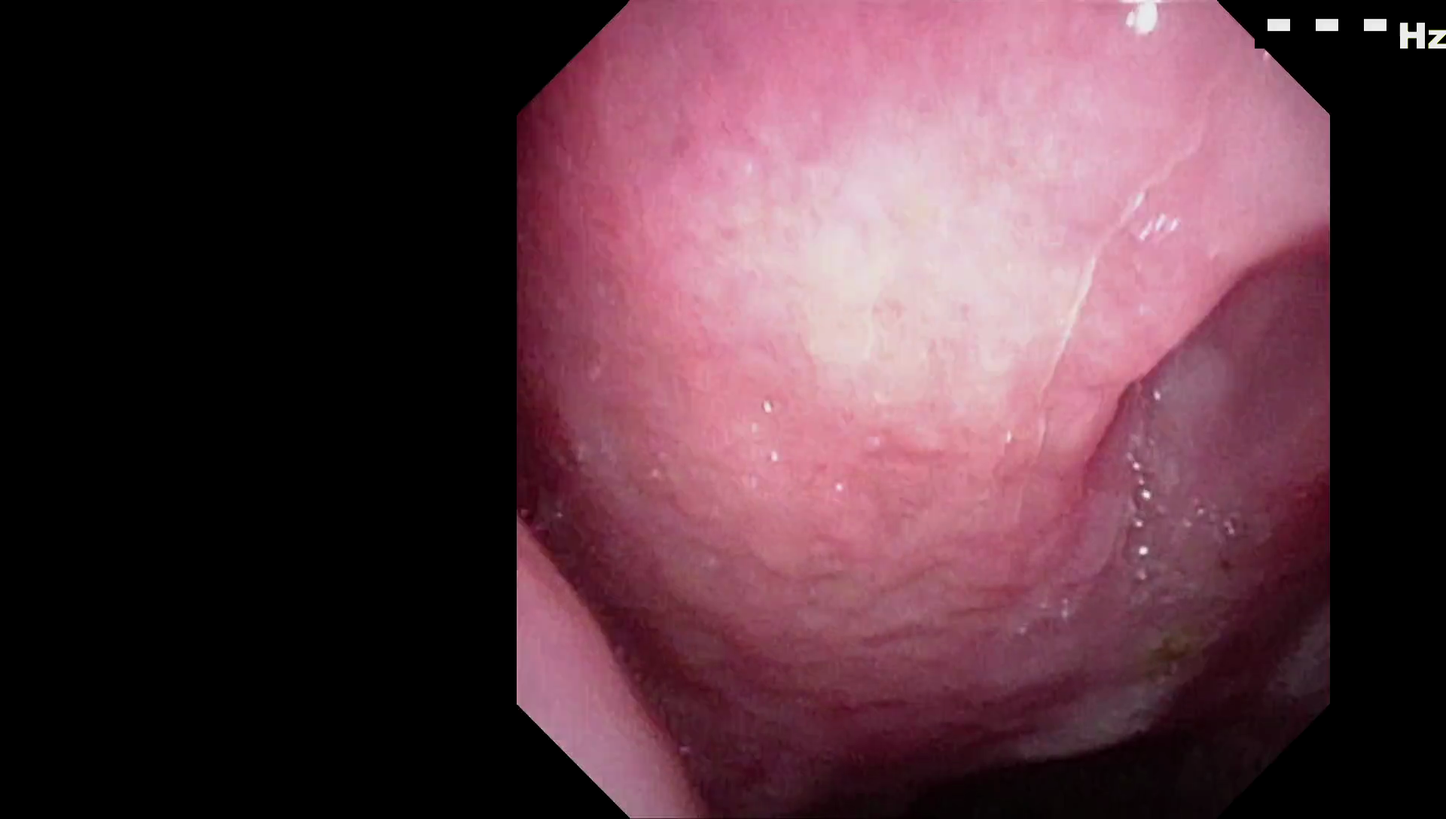close_wall: (606, 52, 1226, 552)
next: (672, 680, 1269, 819)
